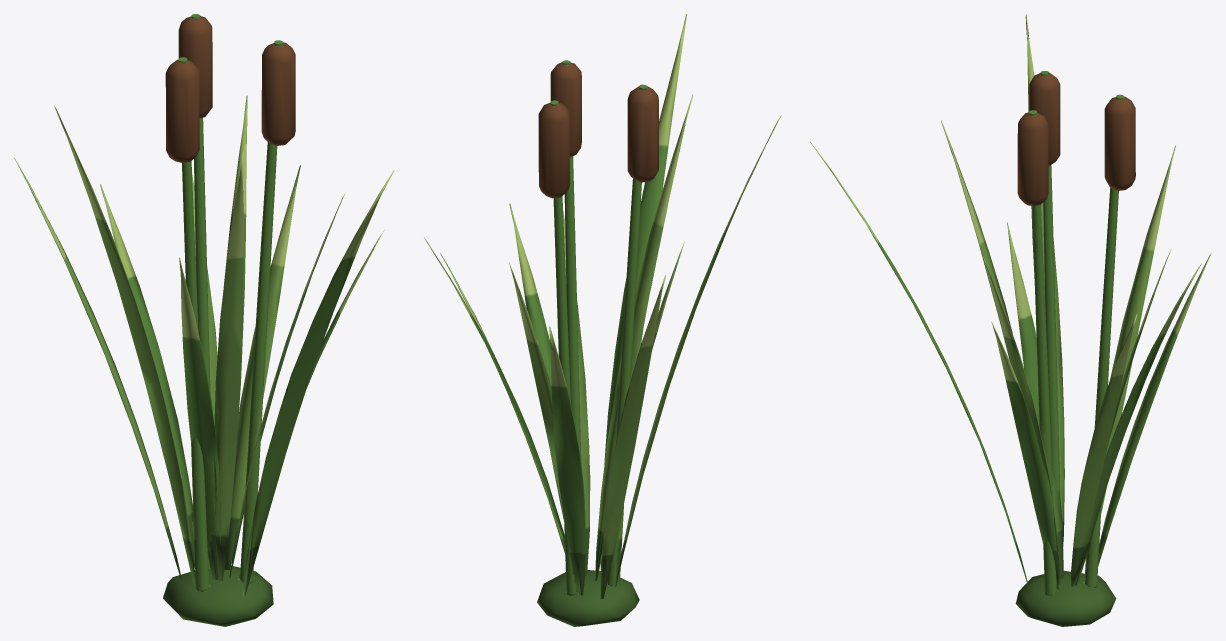
Rendered from TuftReeds.fbx.
3 views of the same model, side by side, from view 1: azimuth 30°, elevation 25°; view 2: azimuth 150°, elevation 25°; view 3: azimuth 270°, elevation 25° (orthographic). The views are drawn at different scales.
Parts seen in each view (by area): view 1: TuftReeds; view 2: TuftReeds; view 3: TuftReeds.
Boxes of the visible parts, x1,y1,x2,y2 form: TuftReeds: (14,14,394,626); TuftReeds: (424,14,781,626); TuftReeds: (810,14,1211,626).
Bounding box in the file's own units: 1.59 × 2.8 × 1.94.
Materials: 1 (1 with a texture image).
